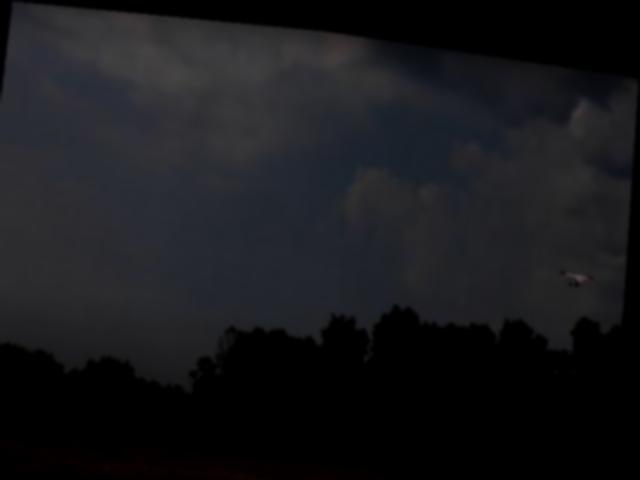uav: (557, 247, 602, 284)
